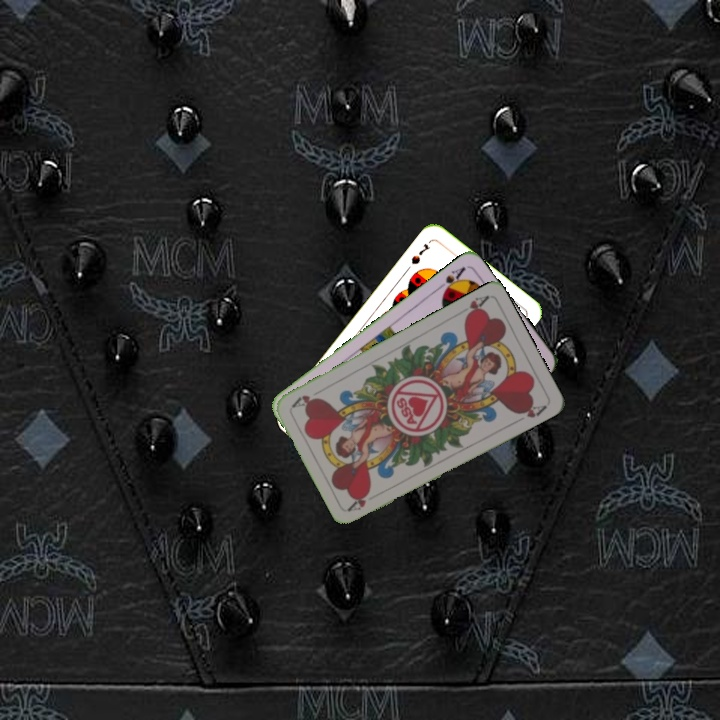HA: (453, 292, 491, 322), (345, 490, 371, 514)
S7: (407, 239, 432, 267)
SA: (434, 262, 468, 297)
